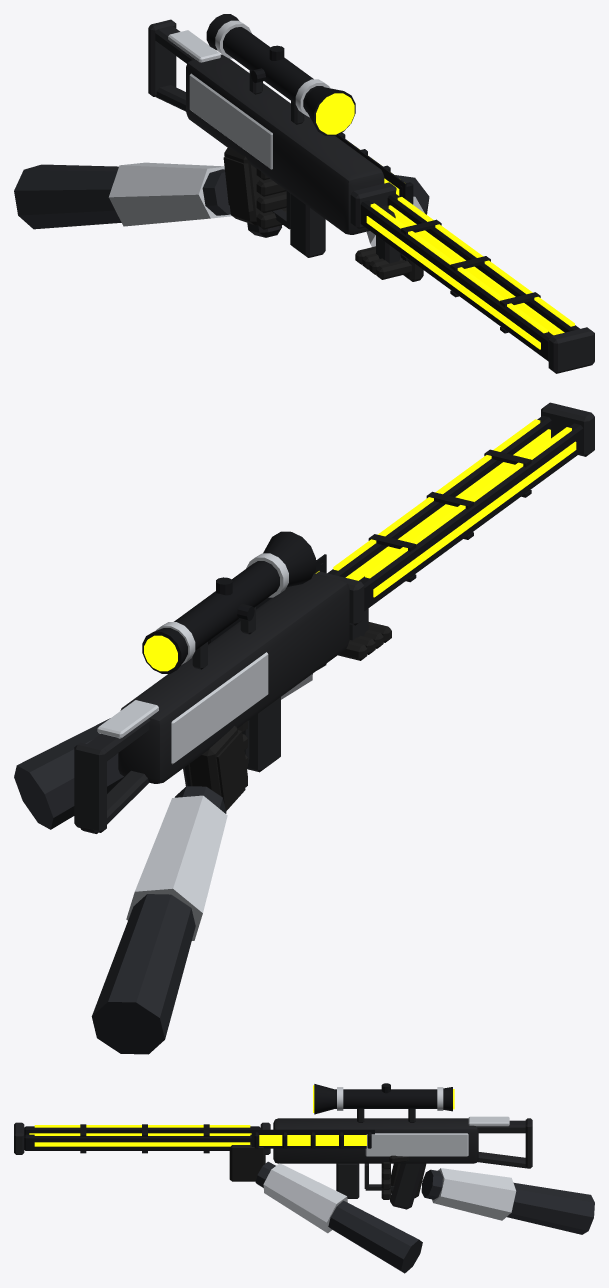
Rendered from gun_rail_low.glb.
The picture shows the model from 3 angles, top to bottom: view 1: azimuth 30°, elevation 25°; view 2: azimuth 150°, elevation 25°; view 3: azimuth 270°, elevation 25°; orthographic projection. The views are drawn at different scales.
Visible parts, largest first — view 1: Body, Forearm_R, Rails, Gauntlet_R, Rail_Core, Armor_Plates, Scope, Glove_R, Glove_L, Scope_Glow, Rod_Bay; view 2: Body, Forearm_R, Rails, Gauntlet_R, Rail_Core, Armor_Plates, Scope, Forearm_L, Glove_R, Glove_L, Scope_Glow; view 3: Body, Rails, Forearm_R, Forearm_L, Armor_Plates, Gauntlet_R, Gauntlet_L, Scope, Rail_Core, Rod_Bay, Glove_L, Glove_R.
Part boxes in pixels (x1,y1,x2,y2): Body: [148, 19, 594, 373]; Forearm_R: [14, 164, 230, 229]; Rails: [360, 193, 579, 361]; Gauntlet_R: [108, 162, 231, 226]; Rail_Core: [366, 197, 574, 349]; Armor_Plates: [168, 20, 329, 169]; Scope: [206, 14, 355, 135]; Glove_R: [223, 147, 286, 229]; Glove_L: [355, 205, 423, 281]; Scope_Glow: [316, 93, 354, 134]; Rod_Bay: [335, 132, 413, 204]; Body: [74, 402, 594, 833]; Forearm_R: [91, 786, 226, 1054]; Rails: [327, 415, 583, 610]; Gauntlet_R: [126, 795, 227, 940]; Rail_Core: [333, 419, 576, 597]; Armor_Plates: [97, 553, 288, 764]; Scope: [142, 531, 315, 673]; Forearm_L: [14, 663, 326, 829]; Glove_R: [188, 720, 247, 811]; Glove_L: [338, 622, 391, 660]; Scope_Glow: [144, 635, 177, 671]; Body: [14, 1109, 532, 1209]; Rails: [24, 1124, 260, 1153]; Forearm_R: [421, 1169, 594, 1234]; Forearm_L: [255, 1161, 422, 1273]; Armor_Plates: [337, 1087, 509, 1156]; Gauntlet_R: [432, 1168, 516, 1220]; Gauntlet_L: [263, 1163, 347, 1233]; Scope: [314, 1083, 452, 1114]; Rail_Core: [29, 1125, 251, 1146]; Rod_Bay: [251, 1129, 374, 1148]; Glove_L: [229, 1144, 265, 1181]; Glove_R: [381, 1155, 426, 1199].
Bounding box in the file's own units: 0.3788 × 0.3663 × 1.13.
